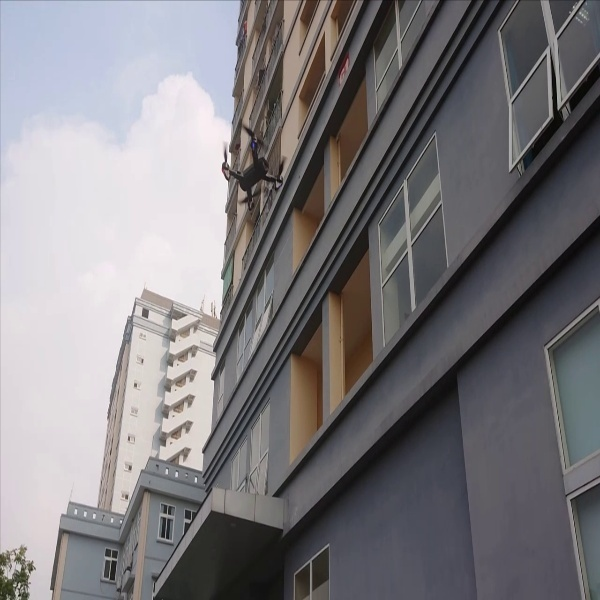drone: (213, 119, 300, 218)
